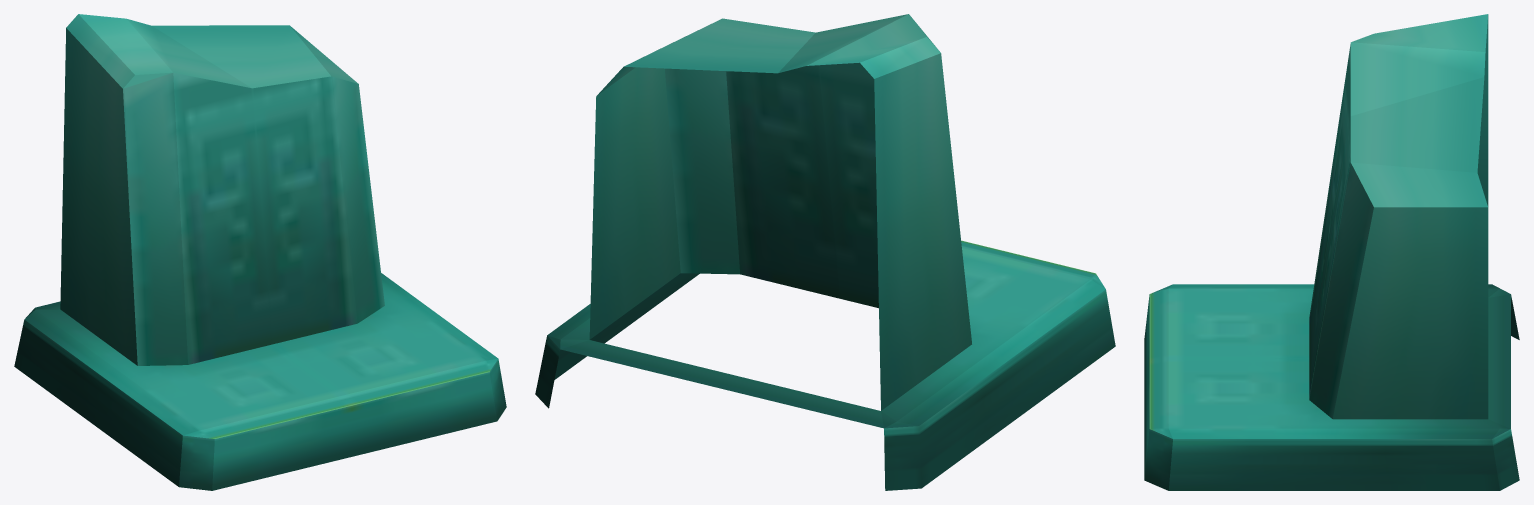
File: obj_grave2 (merge).fbx
3 views of the same model, side by side, from view 1: azimuth 30°, elevation 25°; view 2: azimuth 150°, elevation 25°; view 3: azimuth 270°, elevation 25° (orthographic). The views are drawn at different scales.
Parts seen in each view (by area): view 1: obj_grave2; view 2: obj_grave2; view 3: obj_grave2.
Part boxes in pixels (bbox=[...]): obj_grave2: bbox=[14, 14, 506, 490]; obj_grave2: bbox=[535, 14, 1115, 490]; obj_grave2: bbox=[1144, 14, 1519, 490].
Size of the model in its own units: 0.9224 by 0.9216 by 0.9099.
Materials: 1 (1 with a texture image).
